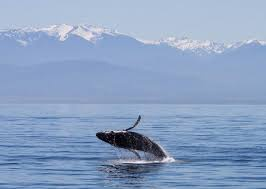humpback: (96, 130, 170, 159)
